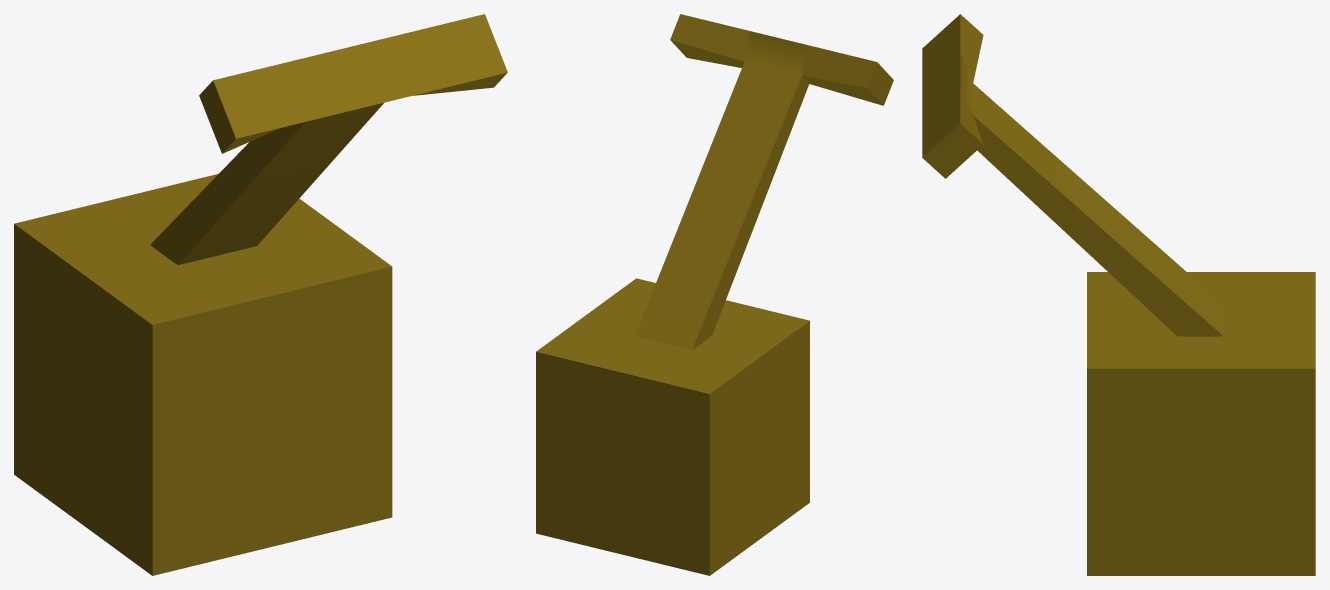
File: lever_pull.fbx
The picture shows the model from 3 angles, left to right: view 1: azimuth 30°, elevation 25°; view 2: azimuth 150°, elevation 25°; view 3: azimuth 270°, elevation 25°; orthographic projection. The views are drawn at different scales.
Parts seen in each view (by area): view 1: polySurface2, polySurface3; view 2: polySurface2, polySurface3; view 3: polySurface2, polySurface3.
Part boxes in pixels (left/top/right/bottom): polySurface2: left=14, top=174, right=392, bottom=575; polySurface3: left=150, top=14, right=507, bottom=265; polySurface2: left=536, top=278, right=809, bottom=575; polySurface3: left=635, top=14, right=893, bottom=350; polySurface2: left=1087, top=272, right=1315, bottom=575; polySurface3: left=922, top=14, right=1223, bottom=336.
Size of the model in its own units: 1.13 by 2.21 by 1.72.
